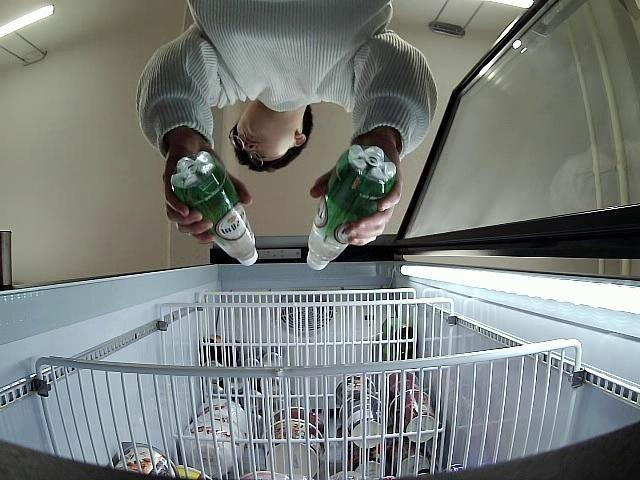18_trevi: (306, 144, 398, 270), (168, 153, 255, 266)
